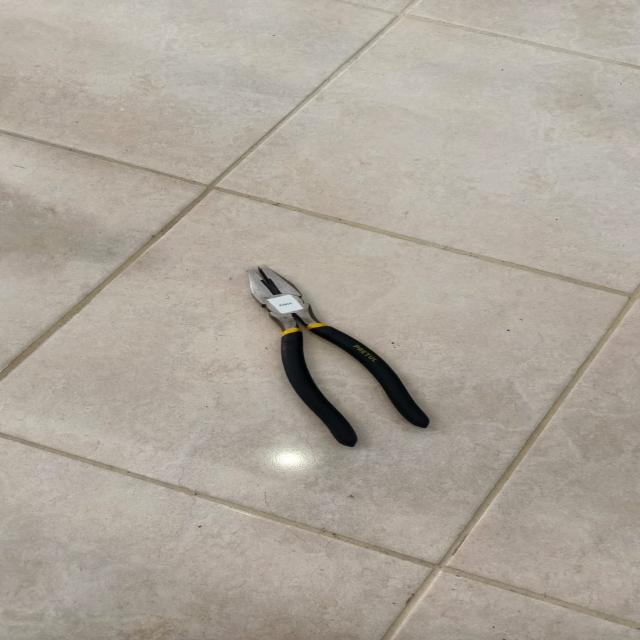alicate: (202, 258, 464, 459)
